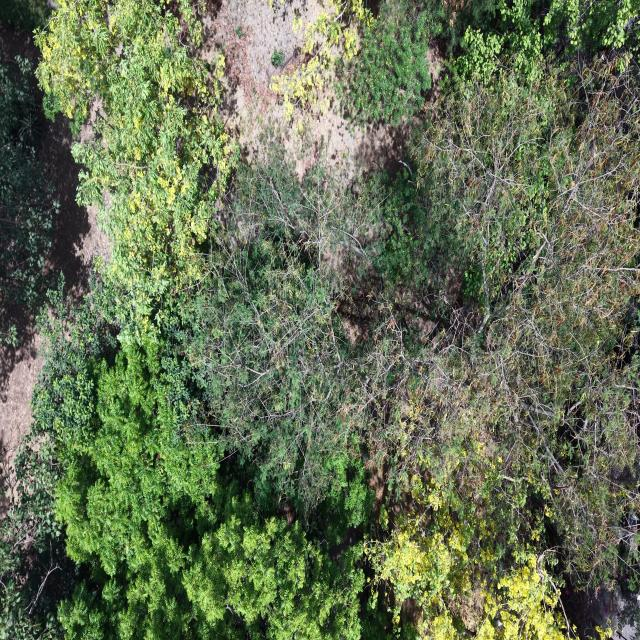DRY_AREA: (198, 0, 419, 186), (199, 0, 414, 180), (198, 0, 412, 179), (198, 0, 411, 179), (39, 118, 108, 302), (38, 117, 107, 300), (0, 332, 43, 480), (565, 583, 639, 639)
VEGETATION_TREE: (0, 0, 639, 639), (360, 60, 639, 637), (35, 229, 370, 638), (417, 62, 639, 583), (56, 336, 362, 638), (185, 151, 367, 516), (36, 0, 231, 315), (0, 282, 115, 639), (337, 0, 639, 125), (365, 476, 572, 639), (348, 163, 463, 313), (0, 56, 59, 346), (0, 434, 74, 639), (454, 0, 639, 79), (0, 58, 58, 309), (338, 0, 447, 125), (270, 0, 371, 120), (0, 0, 51, 32), (271, 48, 284, 67)
